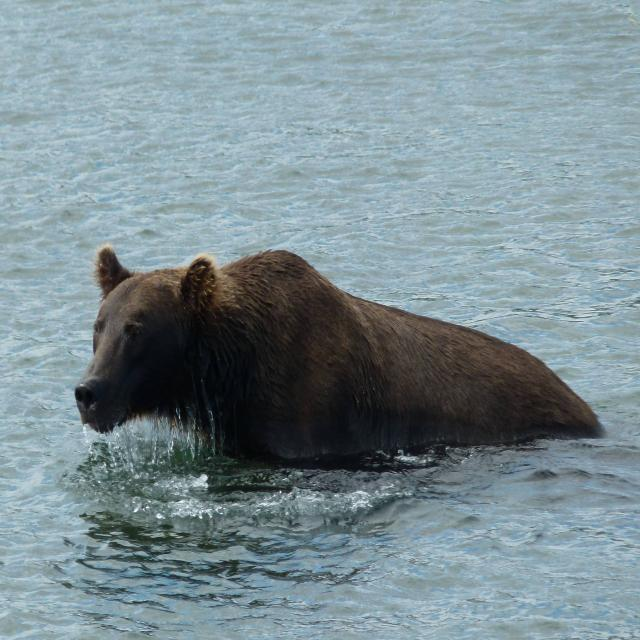bear face: (75, 243, 605, 464)
